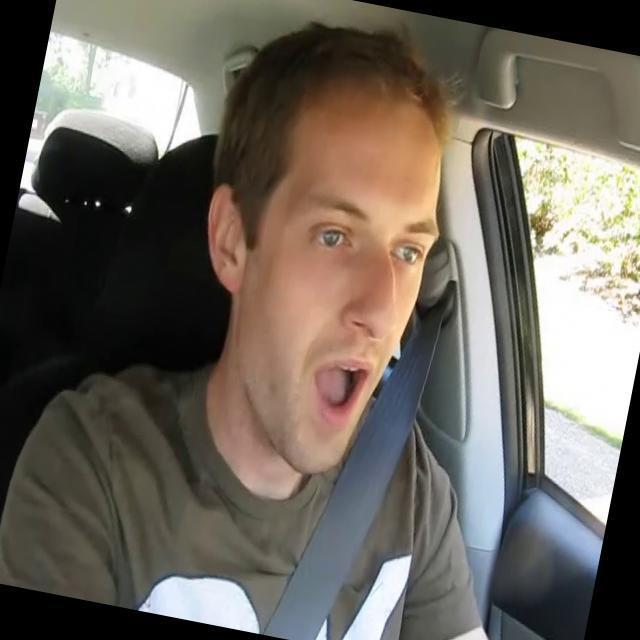open-mouth: (312, 356, 370, 424)
